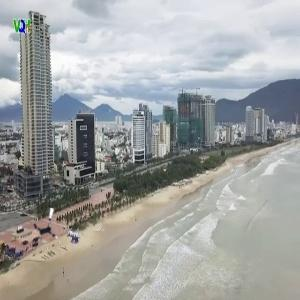drone: (26, 207, 64, 245)
